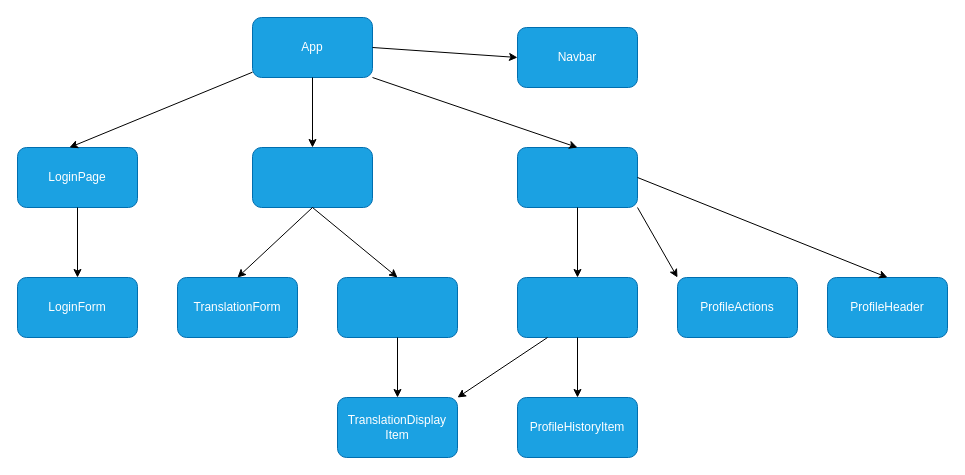
The diagram is 965 pixels wide and 475 high, and some of its shapes have lost their labels. Each missing label, with the centre of its shape:
"ProfileHistory" belongs at point 577,307.
"ProfilePage" belongs at point 577,177.
"TranslatePage" belongs at point 312,177.
"TranslationDisplay" belongs at point 397,307.
